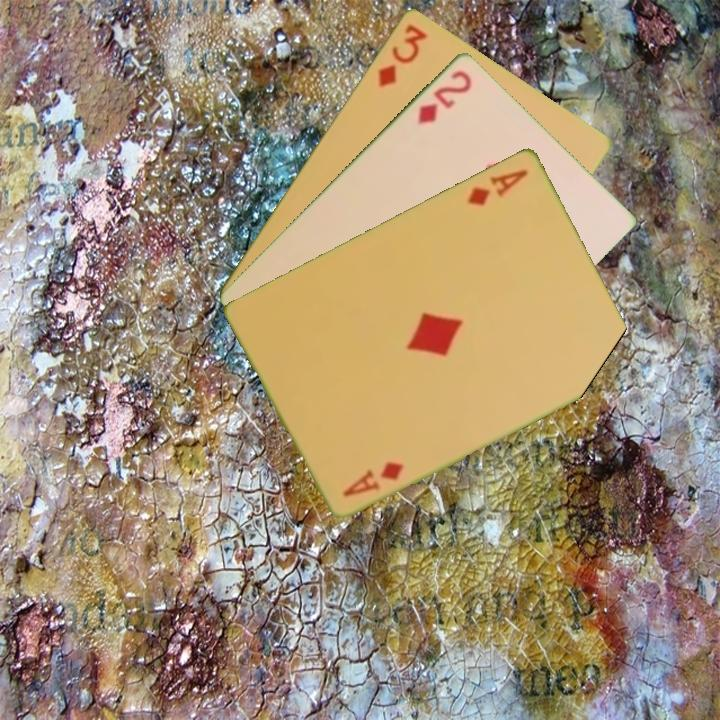2d: (413, 66, 475, 127)
3d: (374, 20, 430, 90)
Ad: (464, 165, 532, 208), (338, 457, 407, 499)
